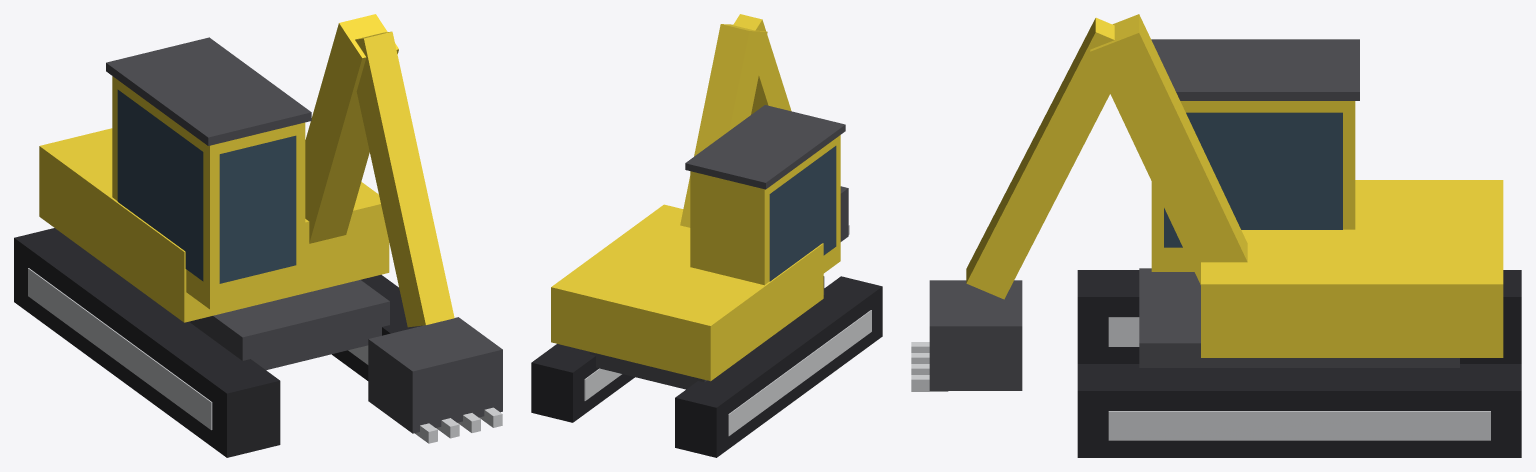
The model's file is excavator.fbx.
The picture shows the model from 3 angles, left to right: view 1: azimuth 30°, elevation 25°; view 2: azimuth 150°, elevation 25°; view 3: azimuth 270°, elevation 25°; orthographic projection. The views are drawn at different scales.
Visible parts, largest first — view 1: common/excavator; view 2: common/excavator; view 3: common/excavator.
Boxes of the visible parts, x1,y1,x2,y2 form: common/excavator: (14, 14, 502, 457); common/excavator: (531, 14, 882, 457); common/excavator: (911, 14, 1521, 457).
Size of the model in its own units: 2.34 by 3.53 by 4.95.
